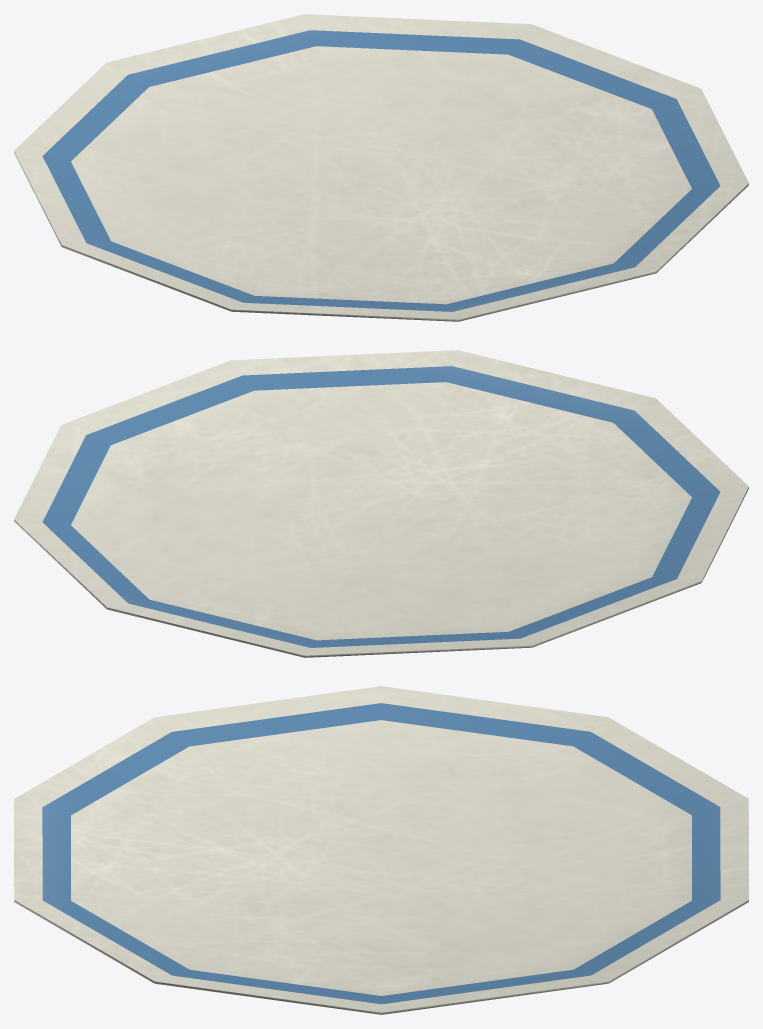
The model's file is dish02a.fbx.
3 views of the same model, one above another, from view 1: azimuth 30°, elevation 25°; view 2: azimuth 150°, elevation 25°; view 3: azimuth 270°, elevation 25° (orthographic). The views are drawn at different scales.
Visible parts, largest first — view 1: dish02a; view 2: dish02a; view 3: dish02a.
Boxes of the visible parts, bbox=[...] form: dish02a: bbox=[14, 14, 748, 321]; dish02a: bbox=[14, 350, 748, 657]; dish02a: bbox=[14, 686, 748, 1014].
Bounding box in the file's own units: 27.08 × 1.11 × 25.76.
